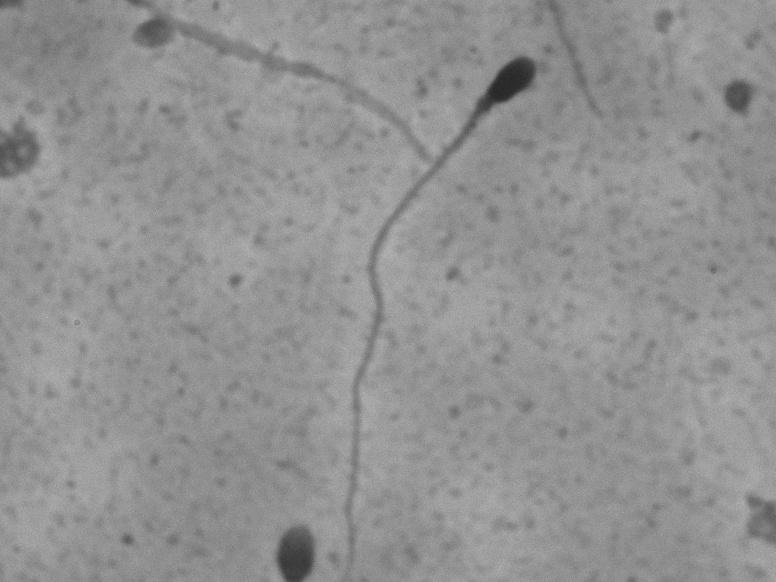Abnormal: (334, 44, 550, 571)
